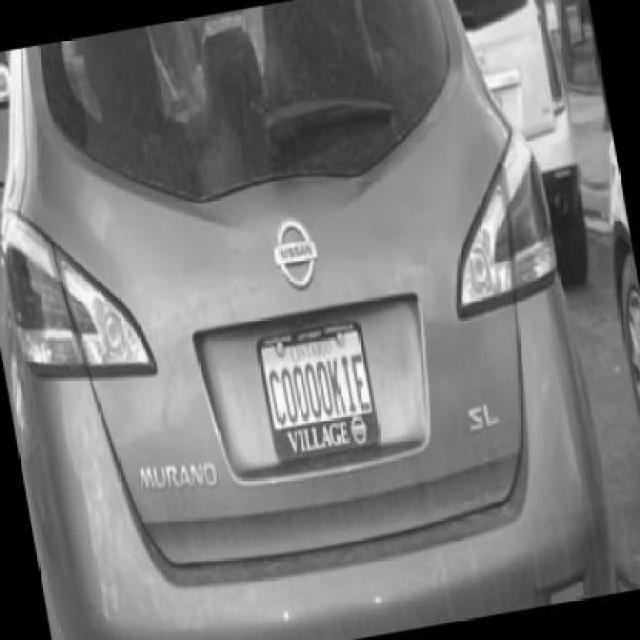licenseplate: (251, 317, 382, 463)
